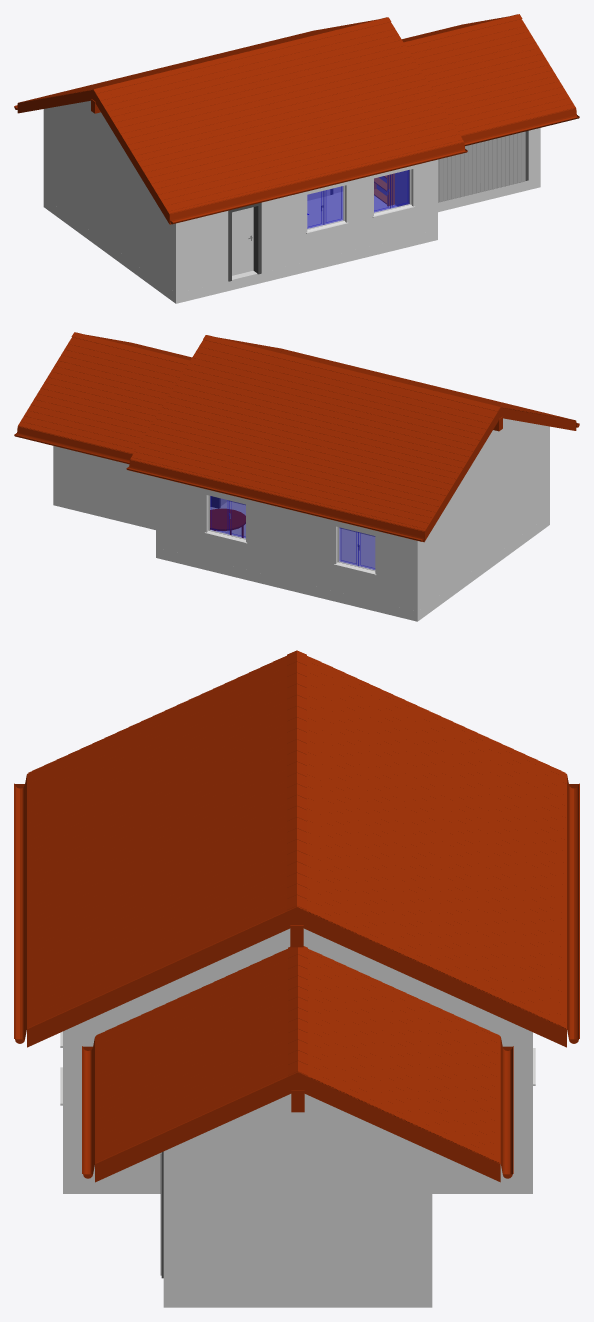
3 renders of one model, top to bottom at view 1: azimuth 30°, elevation 25°; view 2: azimuth 150°, elevation 25°; view 3: azimuth 270°, elevation 25°, orthographic. The views are drawn at different scales.
Visible parts, largest first — view 1: RoofHouse, Walls, RoofGarage, Doors, Floor, WindowGlass, WindowRim, Shelve; view 2: RoofHouse, Walls, RoofGarage, Floor, WindowGlass, Chair, WindowRim; view 3: RoofHouse, RoofGarage, Walls, Floor.
Boxes of the visible parts, x1,y1,x2,y2 form: RoofHouse: [14, 17, 467, 224]; Walls: [43, 100, 540, 293]; RoofGarage: [402, 14, 579, 145]; Doors: [228, 131, 528, 281]; Floor: [43, 177, 540, 303]; WindowGlass: [307, 170, 409, 228]; WindowRim: [306, 169, 415, 234]; Shelve: [374, 173, 394, 206]; RoofHouse: [126, 335, 579, 542]; Walls: [53, 418, 549, 611]; RoofGarage: [14, 332, 192, 464]; Floor: [53, 495, 549, 621]; WindowGlass: [210, 496, 375, 569]; Chair: [210, 508, 245, 537]; WindowRim: [204, 495, 376, 575]; RoofHouse: [14, 650, 579, 1047]; RoofGarage: [82, 946, 513, 1182]; Walls: [63, 928, 532, 1289]; Floor: [63, 1176, 532, 1307].
Bounding box in the file's own units: 22.08 × 8.42 × 14.27.
